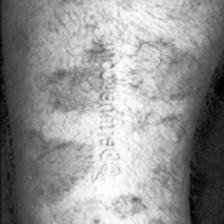Non-Cancerous Skin Condition: (24, 132, 94, 204), (44, 67, 98, 115), (109, 194, 145, 220)
